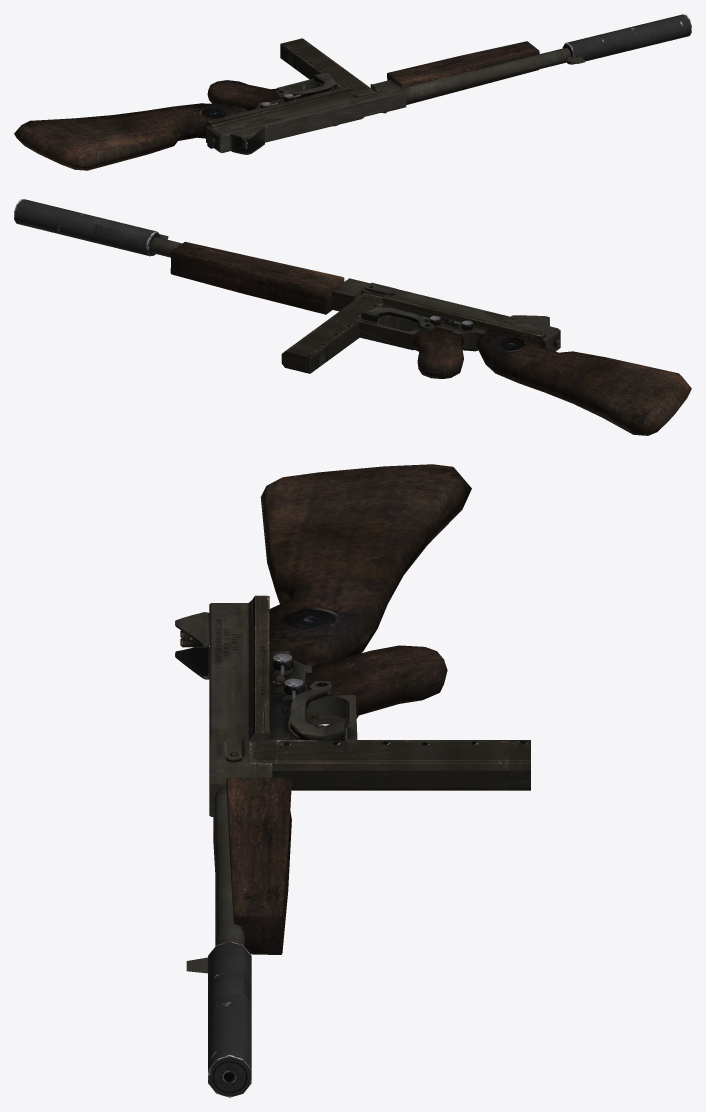
File: weapon_usa_thompson_smg_silent_LOD01.obj
3 views of the same model, one above another, from view 1: azimuth 30°, elevation 25°; view 2: azimuth 150°, elevation 25°; view 3: azimuth 270°, elevation 25° (orthographic). The views are drawn at different scales.
Parts seen in each view (by area): view 1: TomGroup_1, TomGroup_0, TomGroup_2; view 2: TomGroup_1, TomGroup_0, TomGroup_2; view 3: TomGroup_1, TomGroup_0, TomGroup_2.
Boxes of the visible parts, <box> form: TomGroup_1: <box>14,41,539,170</box>; TomGroup_0: <box>206,38,584,154</box>; TomGroup_2: <box>562,14,691,64</box>; TomGroup_1: <box>170,241,691,435</box>; TomGroup_0: <box>150,234,560,373</box>; TomGroup_2: <box>14,199,160,256</box>; TomGroup_1: <box>226,464,471,954</box>; TomGroup_0: <box>175,595,530,973</box>; TomGroup_2: <box>208,941,251,1097</box>.
Bounding box in the file's own units: 106 × 4.56 × 26.49.
2 materials, 2 textured.
